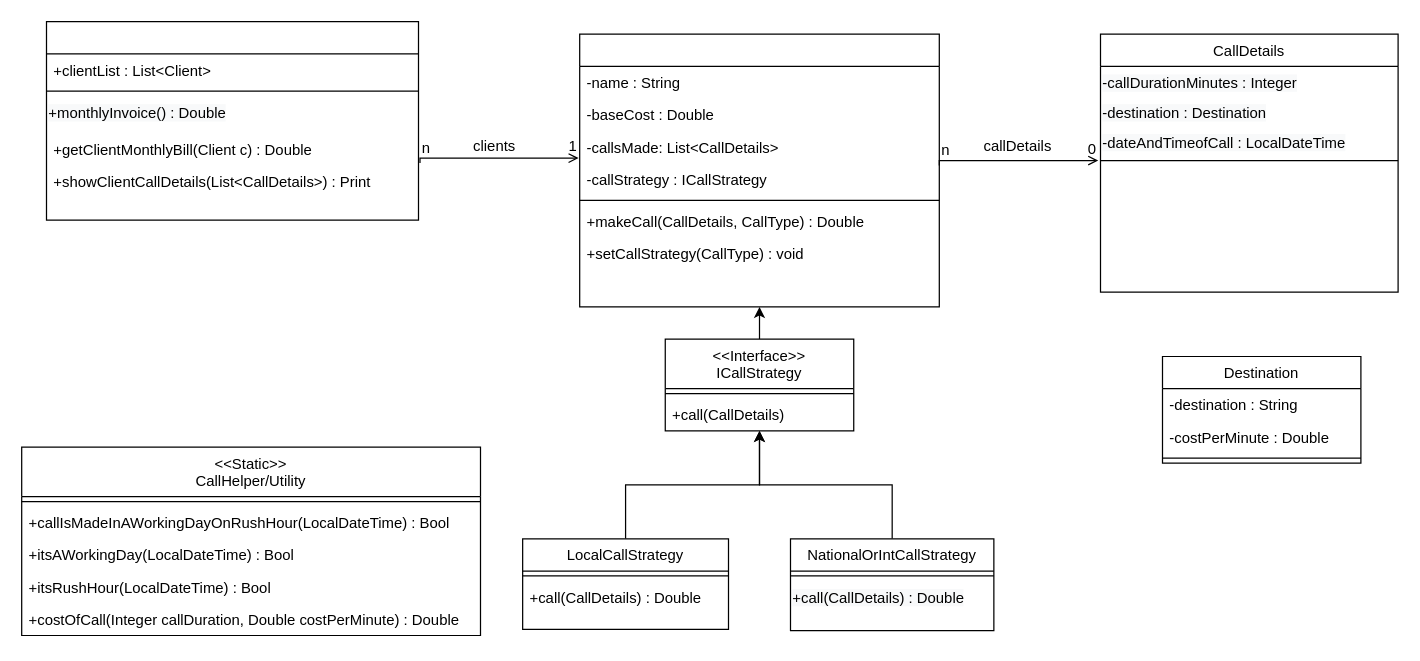
Image size: 1420x661. Some labels were removed from this diagram. The box of each missing label's shape, as (x1, y1, x2, y2) in pixels:
Client: (578, 33, 939, 307)
InvoiceSystem: (45, 20, 418, 220)
